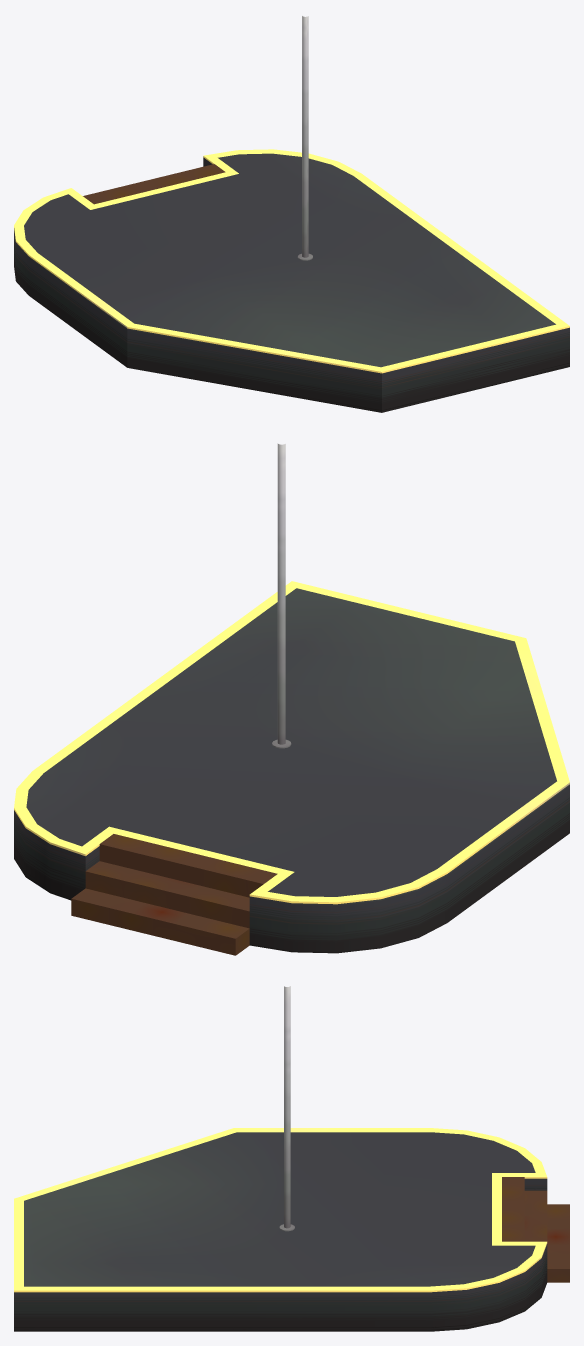
File: f114c3a3-1524-4ad2-a666-03f4afe2d4e3.glb
The picture shows the model from 3 angles, top to bottom: view 1: azimuth 30°, elevation 25°; view 2: azimuth 150°, elevation 25°; view 3: azimuth 270°, elevation 25°; orthographic projection. The views are drawn at different scales.
Parts seen in each view (by area): view 1: StriperRunway02; view 2: StriperRunway02; view 3: StriperRunway02.
Boxes of the visible parts, x1,y1,x2,y2 form: StriperRunway02: (14, 16, 569, 412); StriperRunway02: (14, 443, 569, 955); StriperRunway02: (14, 986, 569, 1331).
Size of what is drawn, in the model's own units: 5.1 by 4.14 by 7.37.
1 material, 1 textured.
